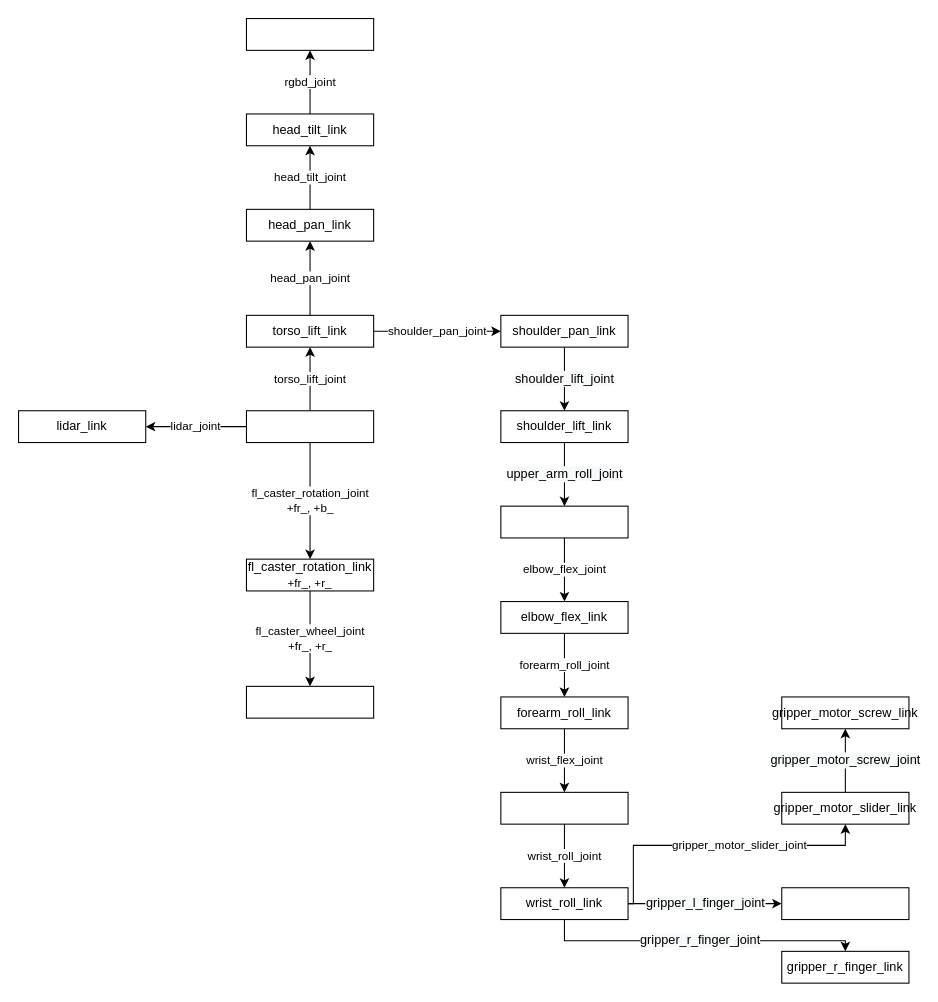
This 938x1002 diagram has some shape labels left out. Each missing label, with the centre of its shape:
base_link: (309,426)
fl_caster_wheel_link +fr_, +r_: (309,701)
gripper_l_finger_link: (845,903)
rgbd_link: (309,33)
upper_arm_roll_link: (564,521)
wrist_flex_link: (564,807)
